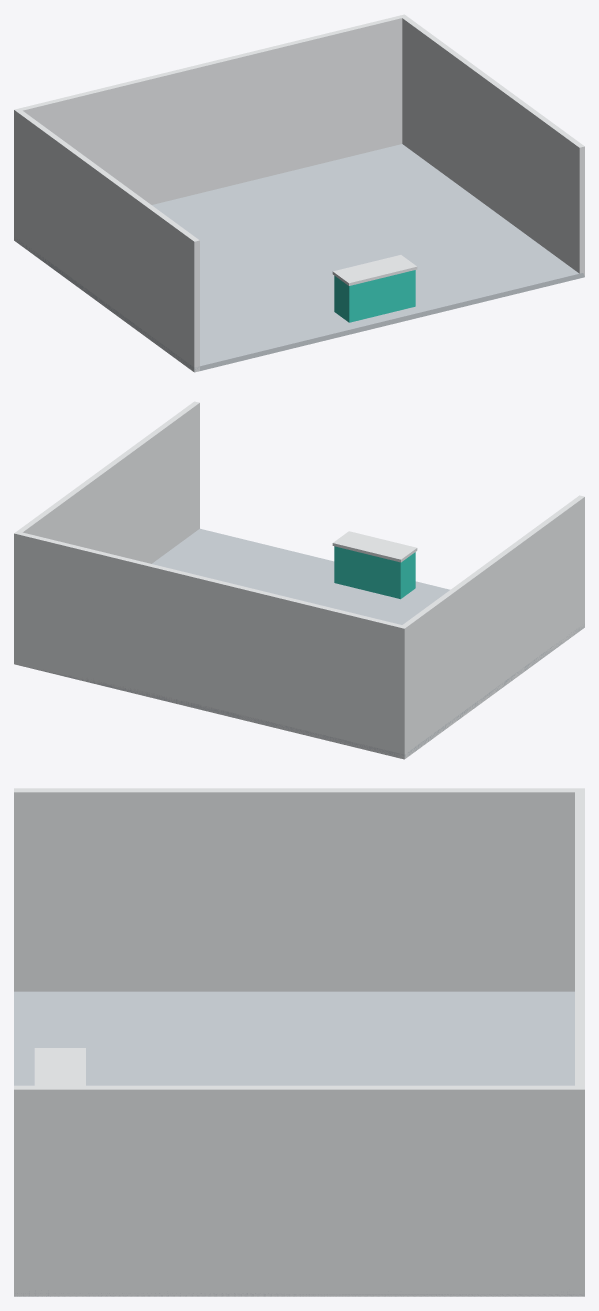
The picture shows the model from 3 angles, top to bottom: view 1: azimuth 30°, elevation 25°; view 2: azimuth 150°, elevation 25°; view 3: azimuth 270°, elevation 25°; orthographic projection. The views are drawn at different scales.
Parts seen in each view (by area): view 1: Exhibition Booth Concept; view 2: Exhibition Booth Concept; view 3: Exhibition Booth Concept.
Part boxes in pixels (x1,y1,x2,y2): Exhibition Booth Concept: [14, 14, 584, 372]; Exhibition Booth Concept: [14, 401, 584, 759]; Exhibition Booth Concept: [14, 788, 584, 1296].
Size of the model in its own units: 10 by 3.2 by 8.
